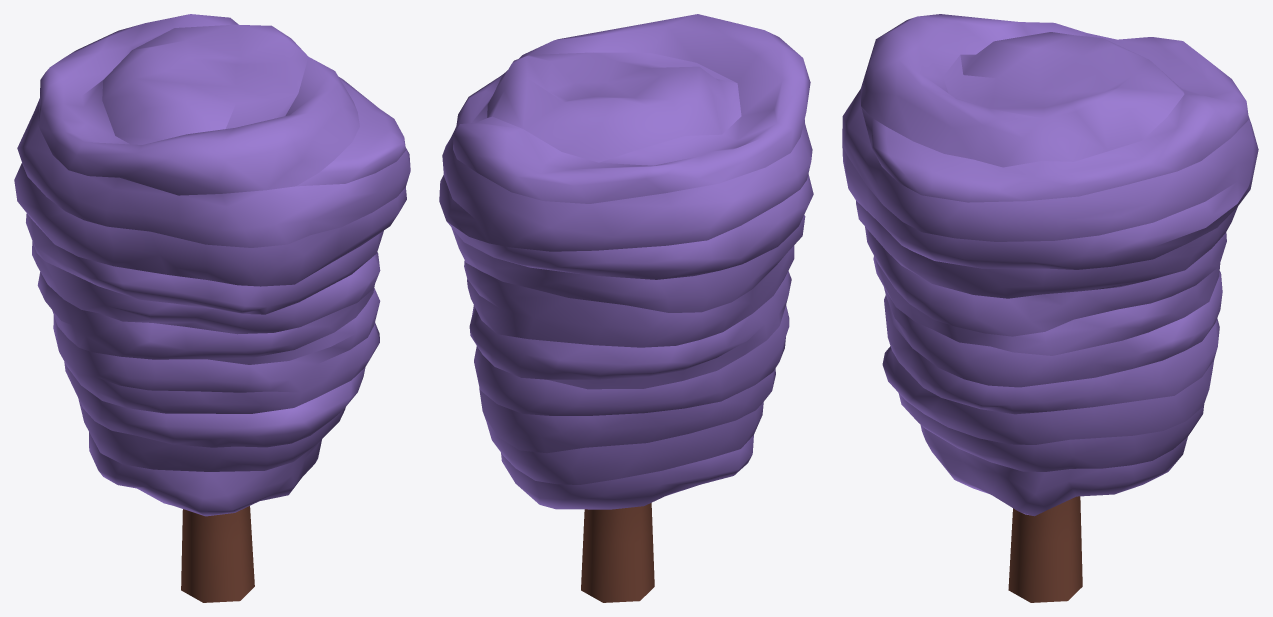
The model's file is fabulous_tree_001.glb.
3 renders of one model, left to right at view 1: azimuth 30°, elevation 25°; view 2: azimuth 150°, elevation 25°; view 3: azimuth 270°, elevation 25°, orthographic.
Visible parts, largest first — view 1: fabulous_tree_001; view 2: fabulous_tree_001; view 3: fabulous_tree_001.
Boxes of the visible parts, x1=… form: fabulous_tree_001: x1=14, y1=14, x2=410, y2=602; fabulous_tree_001: x1=439, y1=14, x2=813, y2=602; fabulous_tree_001: x1=842, y1=14, x2=1258, y2=602.
Size of the model in its own units: 3.47 by 5.37 by 3.84.
1 material, 1 textured.
